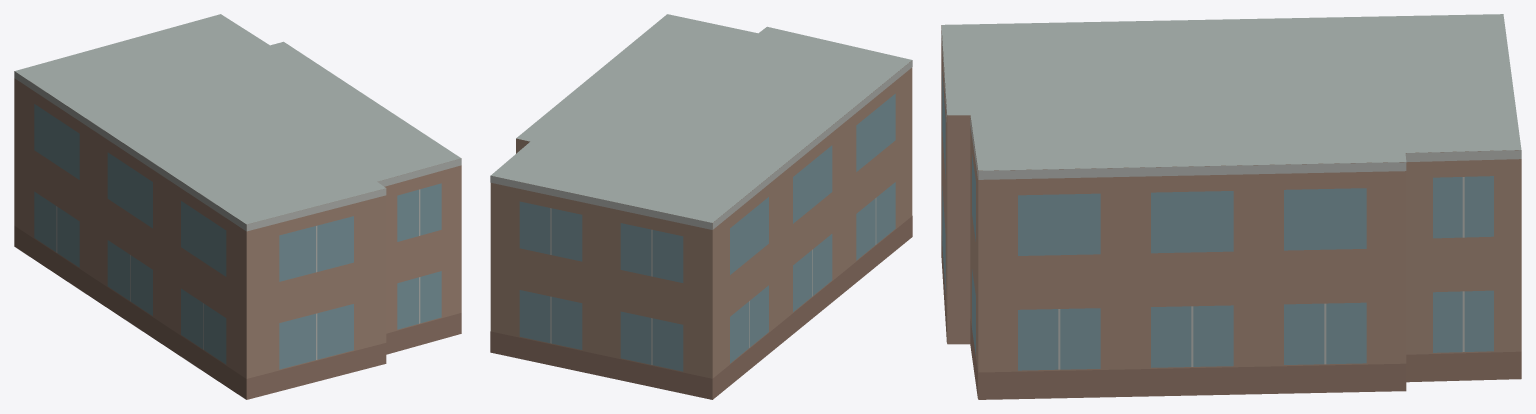
File: survey-upis-32850803.glb
The picture shows the model from 3 angles, left to right: view 1: azimuth 30°, elevation 25°; view 2: azimuth 150°, elevation 25°; view 3: azimuth 270°, elevation 25°; orthographic projection. The views are drawn at different scales.
Parts seen in each view (by area): view 1: survey-upis-32850803.tmp; view 2: survey-upis-32850803.tmp; view 3: survey-upis-32850803.tmp.
Part boxes in pixels (<box>): survey-upis-32850803.tmp: <box>14,14,461,399</box>; survey-upis-32850803.tmp: <box>490,14,912,399</box>; survey-upis-32850803.tmp: <box>941,14,1521,399</box>.
Bounding box in the file's own units: 8.96 × 6.1 × 14.01.
